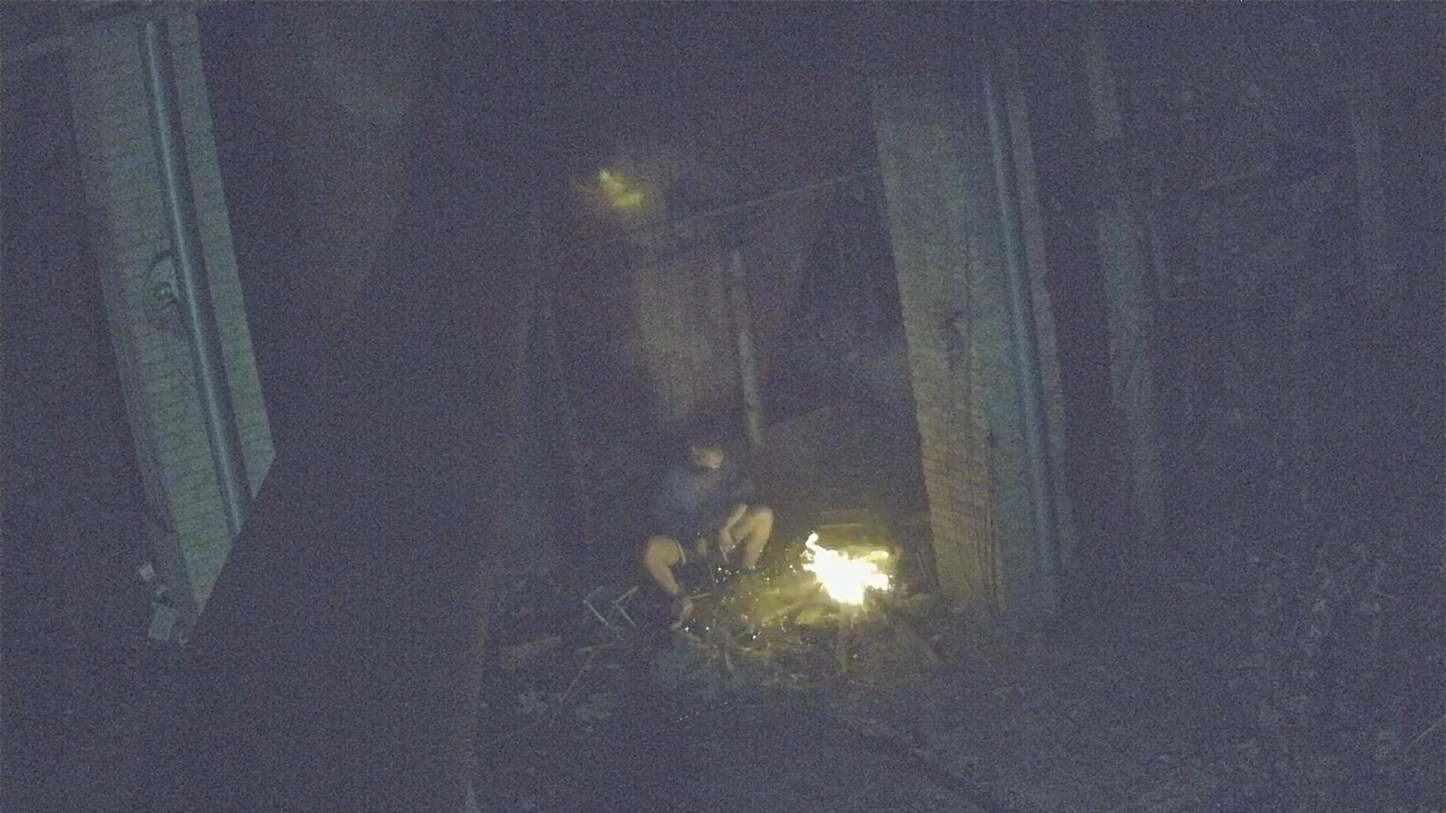fire: (804, 533, 892, 606)
